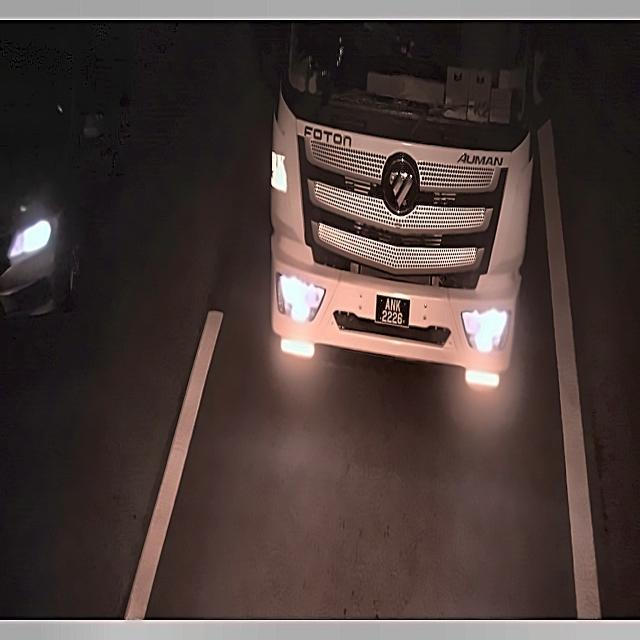car: (371, 288, 413, 336)
